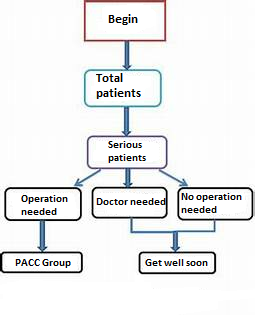arrow: (128, 217, 181, 252), (168, 218, 217, 252), (72, 166, 105, 188), (156, 168, 189, 187), (37, 217, 50, 254), (121, 105, 133, 139), (122, 38, 132, 70), (121, 167, 135, 189)
process: (82, 1, 168, 43), (83, 68, 164, 109), (85, 134, 171, 170), (176, 186, 255, 223), (2, 185, 83, 221), (90, 186, 170, 220), (137, 250, 218, 276), (1, 250, 84, 274)
text: (179, 190, 243, 214), (95, 72, 141, 100), (19, 193, 69, 216), (107, 140, 149, 163), (95, 196, 167, 207), (144, 257, 210, 269), (14, 257, 72, 269), (107, 13, 144, 27)
